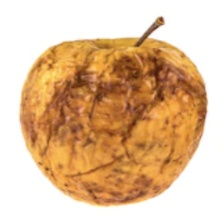apple: (53, 27, 203, 206)
